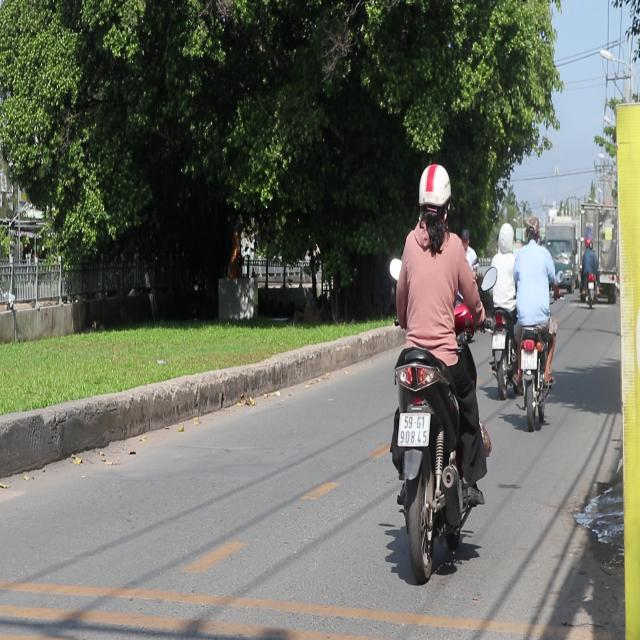helmet: (415, 162, 452, 229)
licenseplate: (384, 163, 494, 580), (512, 210, 559, 430)
motorcyclist: (524, 212, 541, 241)
nohelmet: (398, 411, 429, 446), (521, 350, 537, 368)
